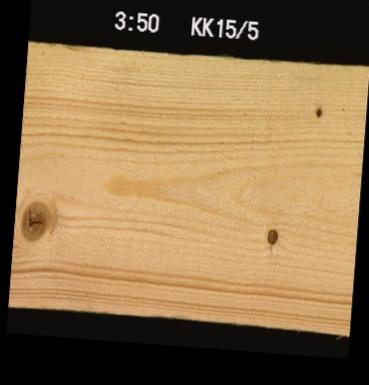dry_knot: (264, 226, 277, 245)
small_knot: (313, 105, 323, 118)
sound_knot: (19, 198, 49, 241)
